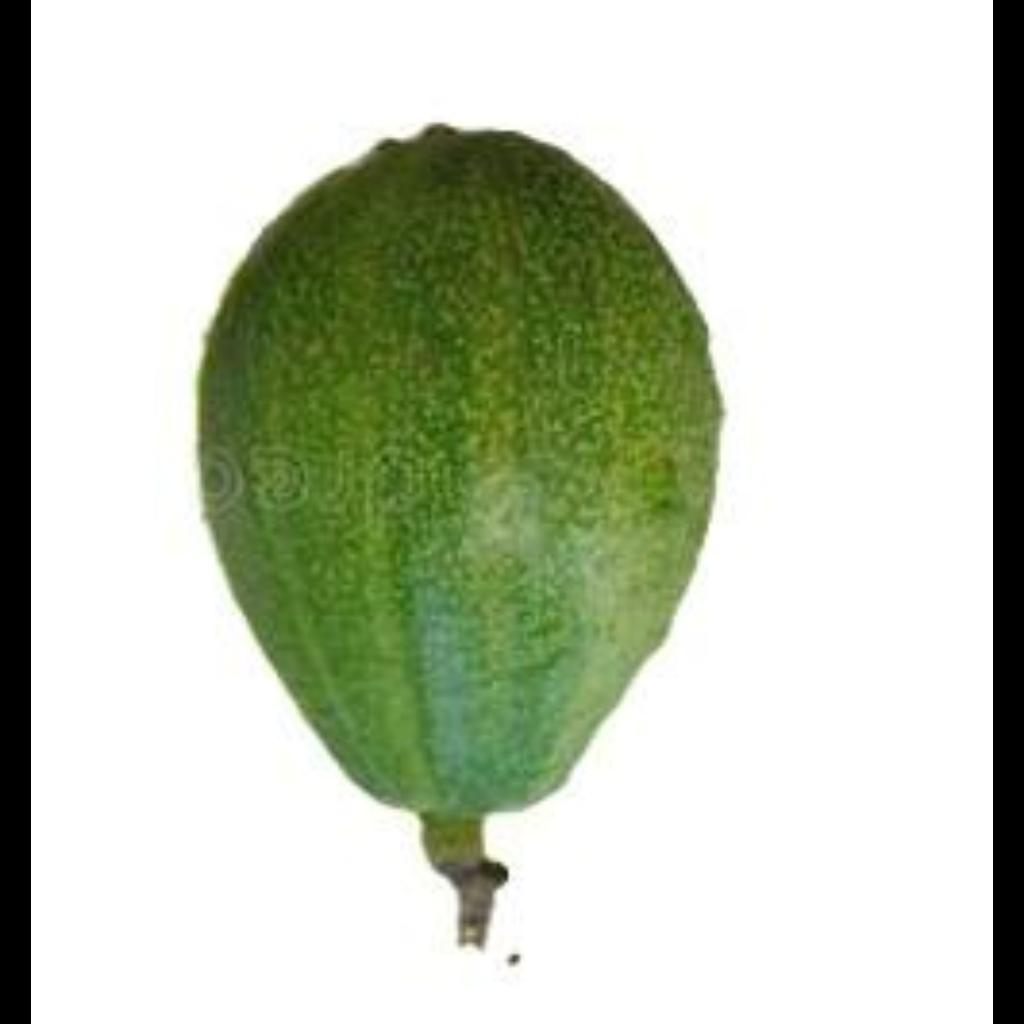fruto_sano: (196, 119, 743, 835)
